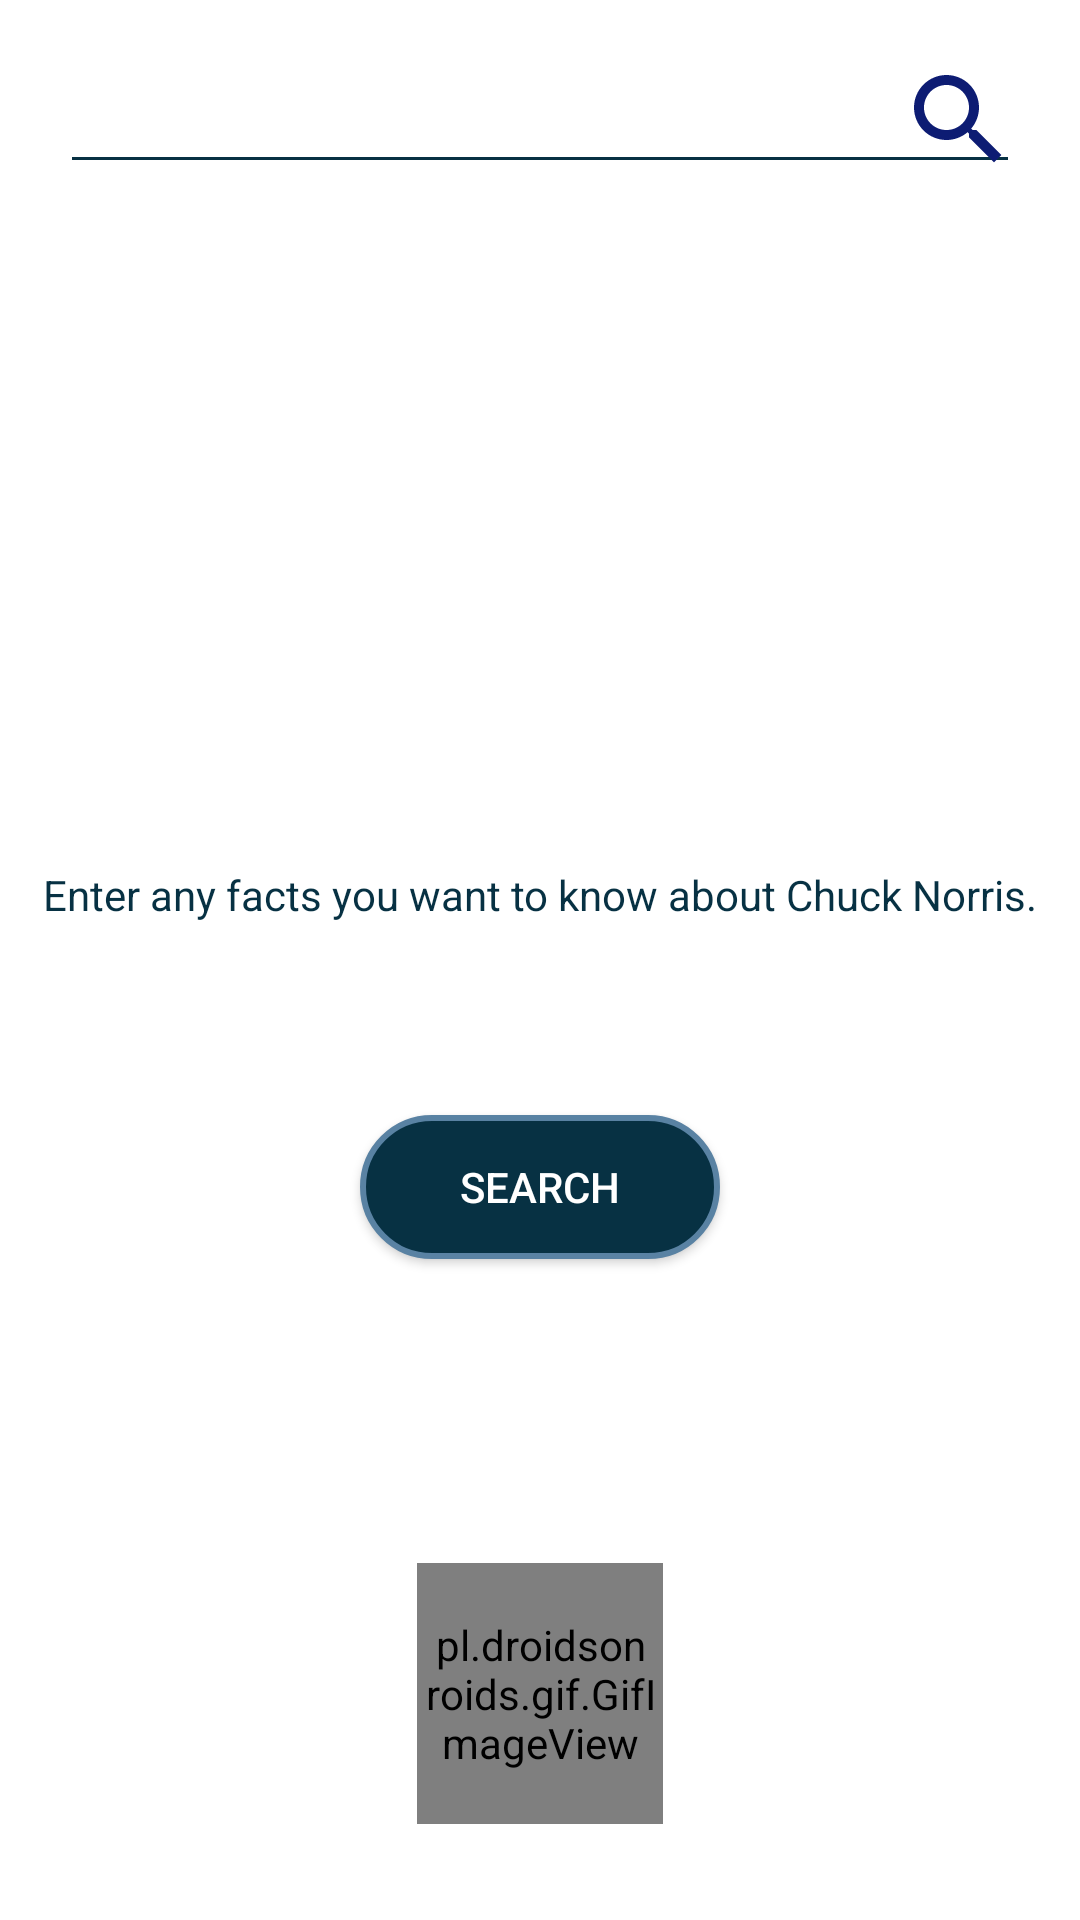

Screen size 1080w x 1920h. Icon name, then its center in pixels as (x=x, y=y):
search: (x=952, y=118)
